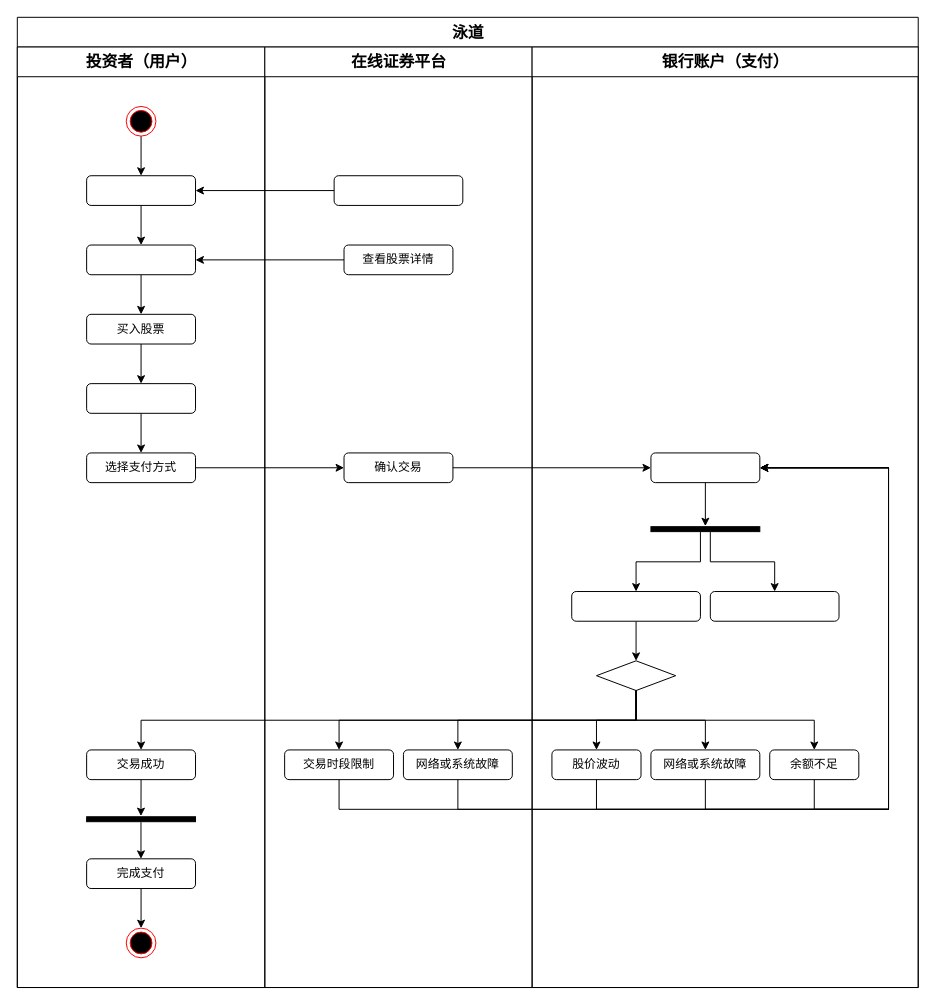
Image size: 936x1005. Some labels were removed from this diagram. The shapes that lost their labels are listed below. From the top down, each one's centre as x and y in pixels, then its label:
At [141,190]: "登陆系统".
At [398,190]: "实名认证 与 身份验证".
At [141,259]: "搜索股票".
At [141,398]: "输入交易信息".
At [705,467]: "查询订单状态".
At [635,606]: "查看订单 执行状态".
At [774,606]: "查看历史 交易记录".
